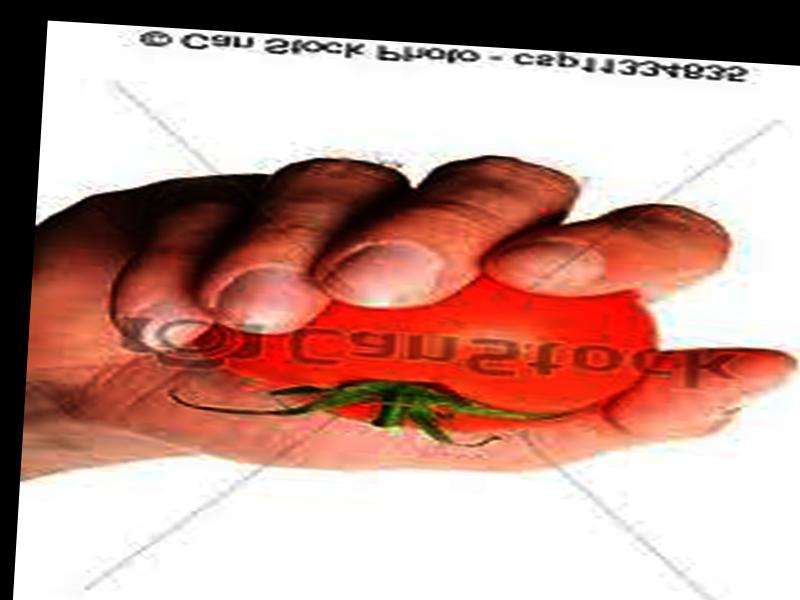Tomato: (194, 261, 658, 439)
